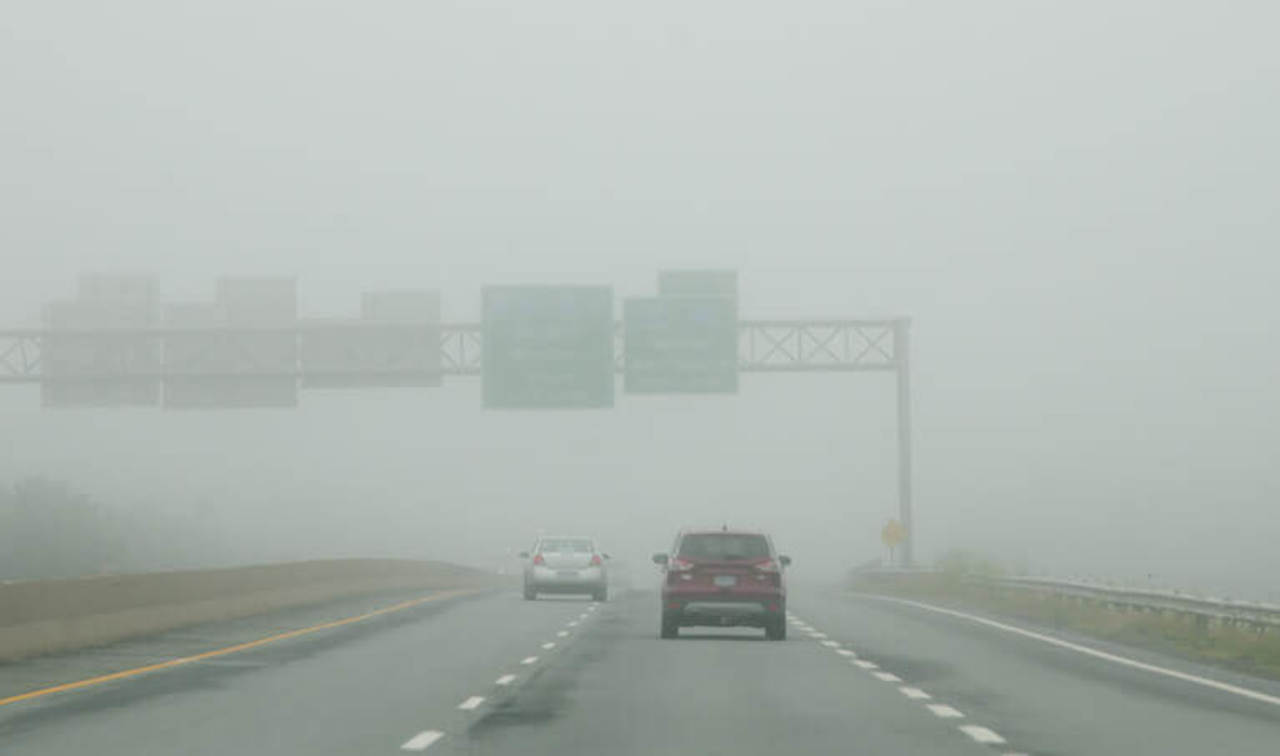car: (653, 523, 789, 642), (522, 533, 609, 602)
